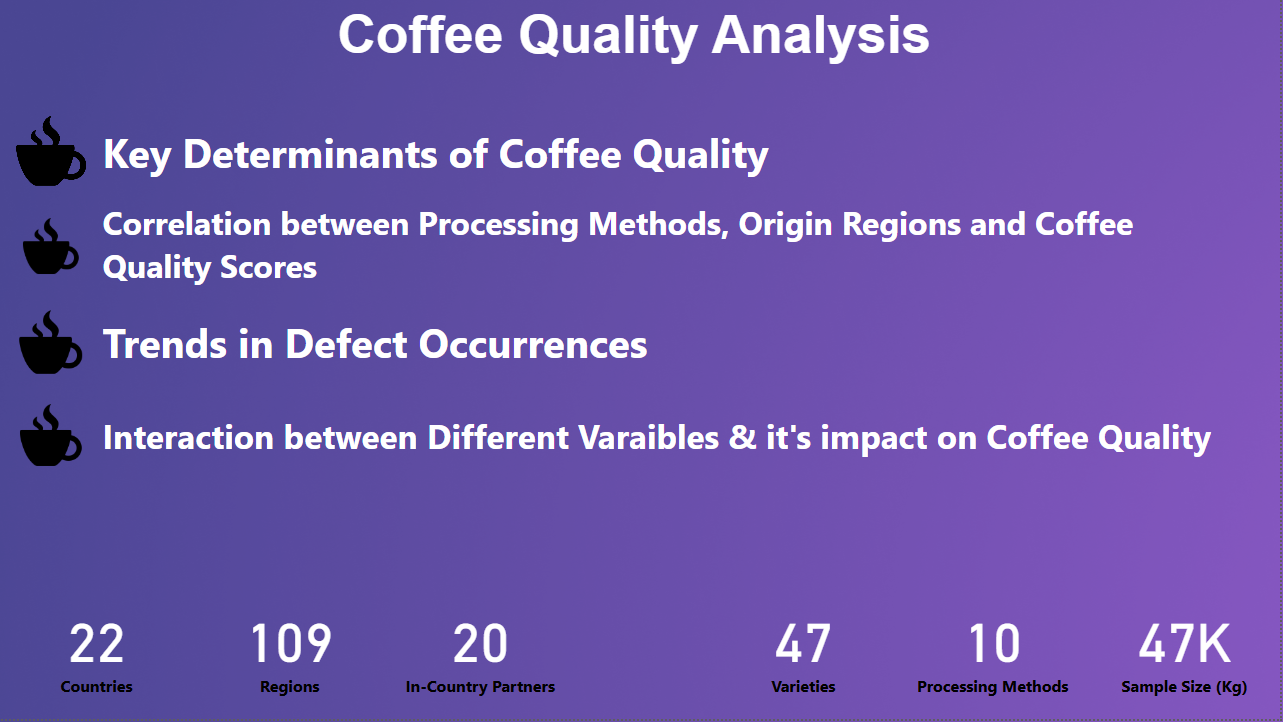

This screenshot's page, from the dashboard's own definition file:
{"tool":"powerbi","page":{"name":"Home Page","canvas":[1280,720],"ordinal":0},"visuals":[{"type":"textbox","box":[332.9,0,613.4,74.8],"z":0},{"type":"shape","box":[102.2,102.2,1145.8,99.7],"z":0,"group":"g1"},{"type":"shape","box":[102.2,201.5,1145.5,87.1],"z":0,"group":"g2"},{"type":"shape","box":[102.2,296.7,1145.8,93.5],"z":0,"group":"g3"},{"type":"shape","box":[102.2,390.2,1145.8,92.3],"z":0,"group":"g4"},{"type":"group","id":"g1","title":"Group 1","box":[0,102.2,1248,99.7],"z":1000},{"type":"image","box":[0,102.2,102.2,98.5],"z":1000,"group":"g1"},{"type":"image","box":[0,204.6,102.2,83.9],"z":1000,"group":"g2"},{"type":"image","box":[0,296.7,102.2,93.5],"z":1000,"group":"g3"},{"type":"image","box":[0,390.2,102.2,92.3],"z":1000,"group":"g4"},{"type":"group","id":"g2","title":"Group 2","box":[0,201.5,1247.7,87.1],"z":2000},{"type":"group","id":"g3","title":"Group 3","box":[0,296.7,1248,93.5],"z":3000},{"type":"group","id":"g4","title":"Group 4","box":[0,390.2,1248,92.3],"z":4000},{"type":"card","fields":{"Values":["Count(Coffee.Country)"]},"box":[0,574.8,193.2,145.9],"z":5000},{"type":"card","fields":{"Values":["Count(Coffee.Region)"]},"box":[193.2,574.8,192,145.9],"z":6000},{"type":"card","fields":{"Values":["Count(Coffee.Variety)"]},"box":[708.2,574.8,189.5,145.9],"z":7000},{"type":"card","fields":{"Values":["Count(Coffee.Processing Method)"]},"box":[897.7,574.8,190.8,145.9],"z":8000},{"type":"card","fields":{"Values":["Sum(Coffee.Bag Weight)"]},"box":[1088.4,574.8,192,145.9],"z":9000},{"type":"card","fields":{"Values":["Count(Coffee.In-Country Partner)"]},"box":[385.2,574.8,190.8,145.9],"z":10000}]}

Visuals, with their boxes in screenshot pixels (x1, y1, x2, y2), scaled from the page's 1280x720 canvas onto the 1283x722 screenshot:
textbox: 334,0,949,75
shape: 102,102,1251,202
shape: 102,202,1251,289
shape: 102,298,1251,391
shape: 102,391,1251,484
"Group 1" group: 0,102,1251,202
image: 0,102,102,201
image: 0,205,102,289
image: 0,298,102,391
image: 0,391,102,484
"Group 2" group: 0,202,1251,289
"Group 3" group: 0,298,1251,391
"Group 4" group: 0,391,1251,484
card - Count(Coffee.Country): 0,576,194,721
card - Count(Coffee.Region): 194,576,386,721
card - Count(Coffee.Variety): 710,576,900,721
card - Count(Coffee.Processing Method): 900,576,1091,721
card - Sum(Coffee.Bag Weight): 1091,576,1282,721
card - Count(Coffee.In-Country Partner): 386,576,577,721
